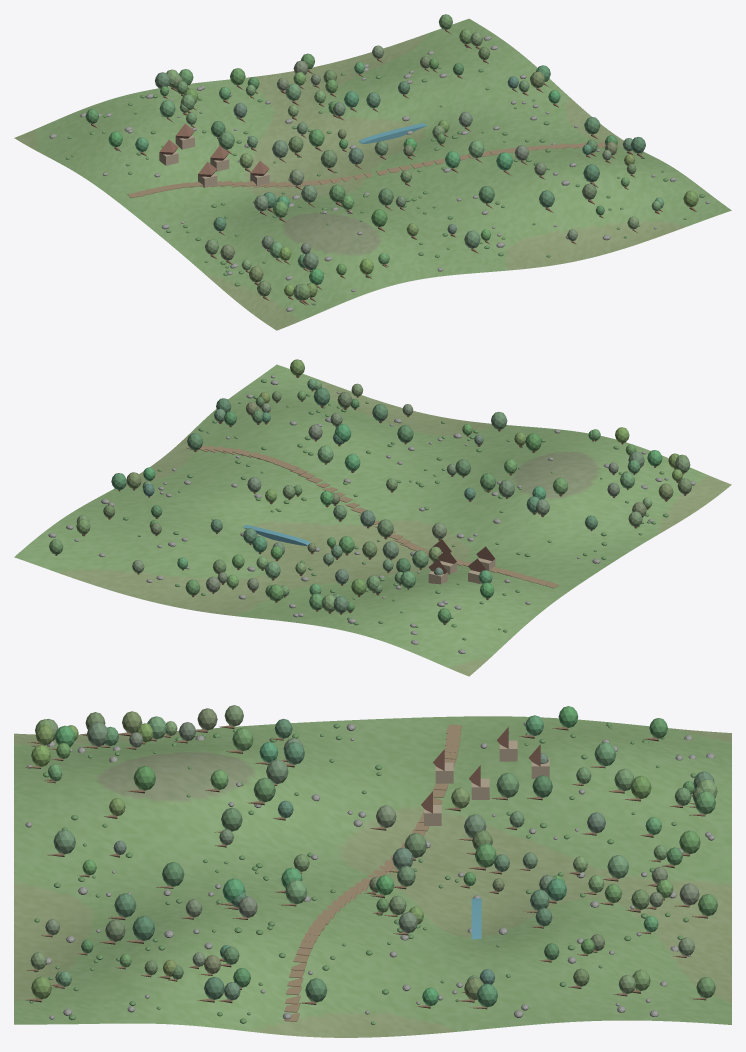
Rendered from reinos_esquecidos_mapa.glb.
3 views of the same model, one above another, from view 1: azimuth 30°, elevation 25°; view 2: azimuth 150°, elevation 25°; view 3: azimuth 270°, elevation 25° (orthographic). The views are drawn at different scales.
Parts seen in each view (by area): view 1: Vale_Verde_Terrain, Arvores_Copas, Aldeia_Inicial, Arvores_Troncos, Arbustos, Pedras; view 2: Vale_Verde_Terrain, Arvores_Copas, Pedras, Arbustos, Aldeia_Inicial, Arvores_Troncos; view 3: Vale_Verde_Terrain, Arvores_Copas, Arvores_Troncos, Pedras, Arbustos, Aldeia_Inicial.
Boxes of the visible parts, x1,y1,x2,y2 form: Vale_Verde_Terrain: (14,18,731,330); Arvores_Copas: (85,14,698,300); Aldeia_Inicial: (159,123,269,187); Arvores_Troncos: (91,29,696,305); Arbustos: (65,66,705,305); Pedras: (49,36,710,311); Vale_Verde_Terrain: (14,364,731,676); Arvores_Copas: (49,359,691,623); Pedras: (48,375,695,653); Arbustos: (123,379,668,640); Aldeia_Inicial: (428,539,495,584); Arvores_Troncos: (55,375,687,624); Vale_Verde_Terrain: (14,716,731,1037); Arvores_Copas: (30,705,717,1007); Arvores_Troncos: (25,725,707,1009); Pedras: (25,721,714,1019); Arbustos: (29,722,696,1024); Aldeia_Inicial: (421,727,549,825).
Bounding box in the file's own units: 180 × 20.12 × 180.
